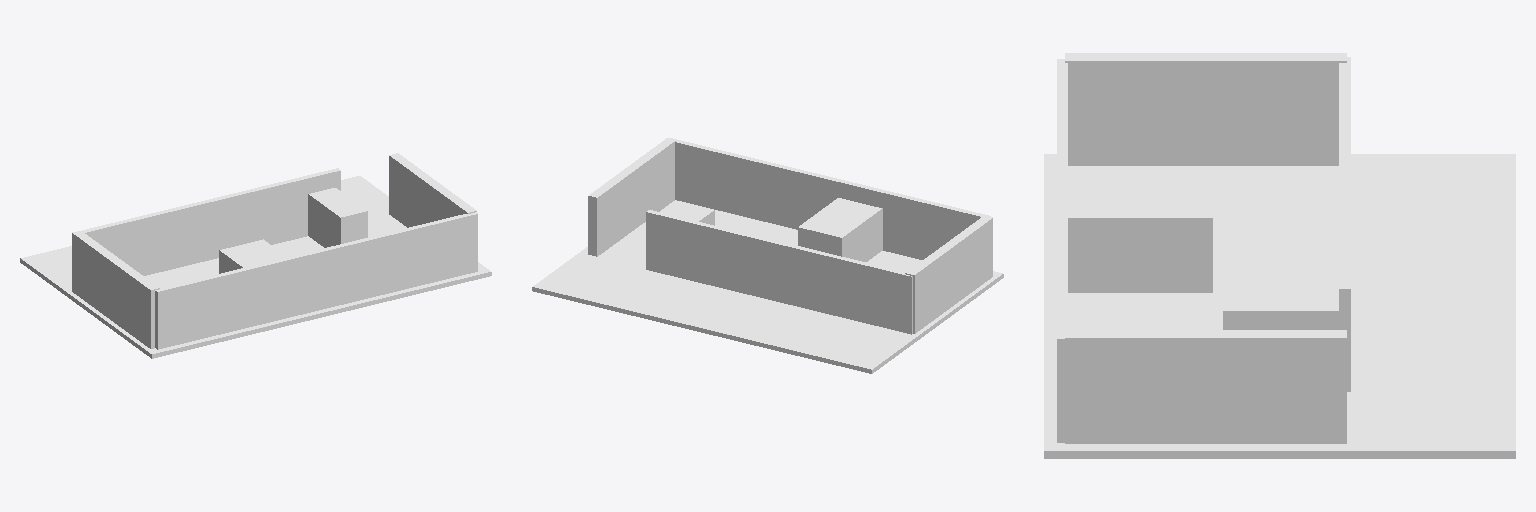
URDF robot description (chair):
<robot name="chair">
  <link name="base_link">
    <visual>
      <origin xyz="0 0 0" rpy="0 0 0" />
      <geometry>
        <mesh filename="./basic.stl"/>
      </geometry>
      <material name="white">
        <color rgba="1 1 1 1"/>
      </material>
    </visual>
    <collision>
      <origin xyz="0 0 0" rpy="0 0 0" />
      <geometry>
        <mesh filename="./basic.stl"/>
      </geometry>
    </collision>
  </link>
</robot>

--- Facts derived from the render (not from the file) ---
The picture shows the robot from 3 angles, left to right: view 1: azimuth 30°, elevation 25°; view 2: azimuth 150°, elevation 25°; view 3: azimuth 270°, elevation 25°; orthographic projection.
Robot: chair — 1 links, 0 joints (none); root link base_link; default pose: all joints at 0.
Links seen in each view (by area): view 1: base_link; view 2: base_link; view 3: base_link.
Boxes of the visible links, x1,y1,x2,y2 form: base_link: (20, 153, 491, 358); base_link: (532, 138, 1003, 373); base_link: (1044, 53, 1515, 458).
Size in the robot's own frame: 15.36 by 10.29 by 2.76 metres.
1 mesh visuals loaded from 1 distinct referenced files (1 binary STL).